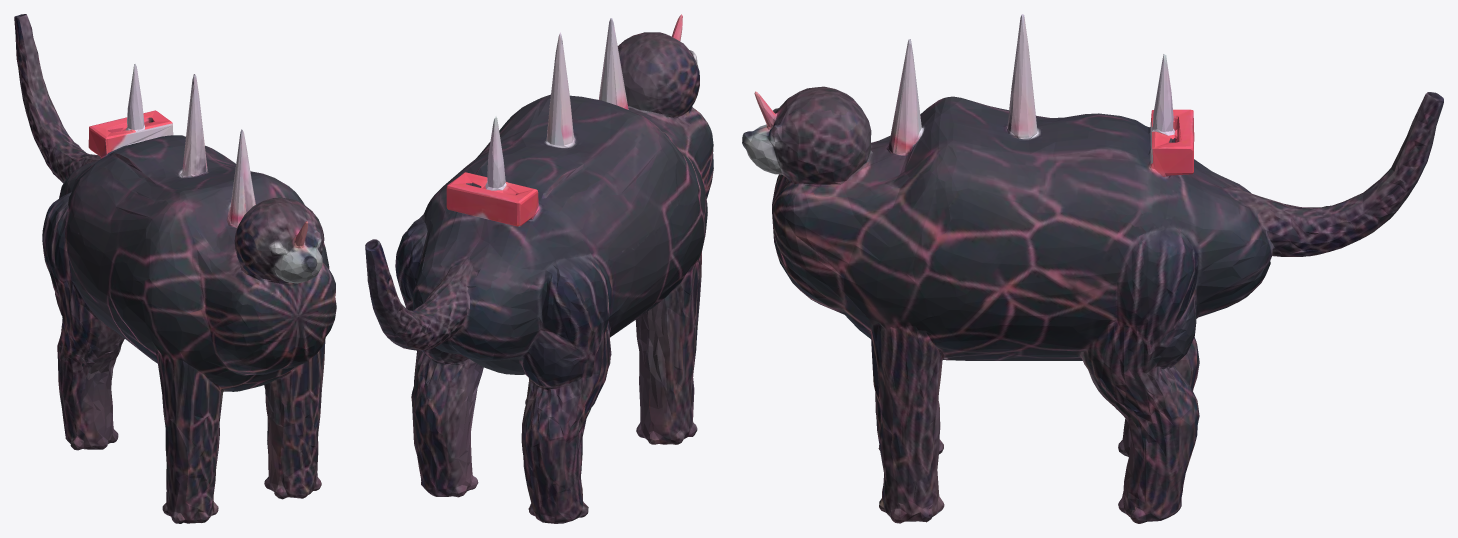
File: creature-121.lod.glb
3 renders of one model, left to right at view 1: azimuth 30°, elevation 25°; view 2: azimuth 150°, elevation 25°; view 3: azimuth 270°, elevation 25°, orthographic. The views are drawn at different scales.
Parts seen in each view (by area): view 1: tmpi1z4hta2.ply; view 2: tmpi1z4hta2.ply; view 3: tmpi1z4hta2.ply.
Part boxes in pixels (box(x1,y1,x2,y2)): tmpi1z4hta2.ply: box(14, 14, 336, 523); tmpi1z4hta2.ply: box(365, 14, 713, 523); tmpi1z4hta2.ply: box(742, 14, 1443, 523).
Bounding box in the file's own units: 0.7373 × 1.48 × 1.99.
1 material, 1 textured.
